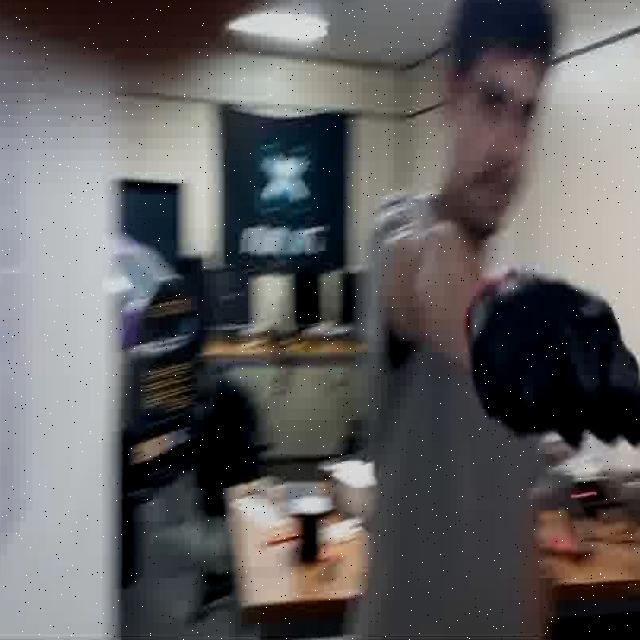Gloves: (462, 266, 640, 453)
